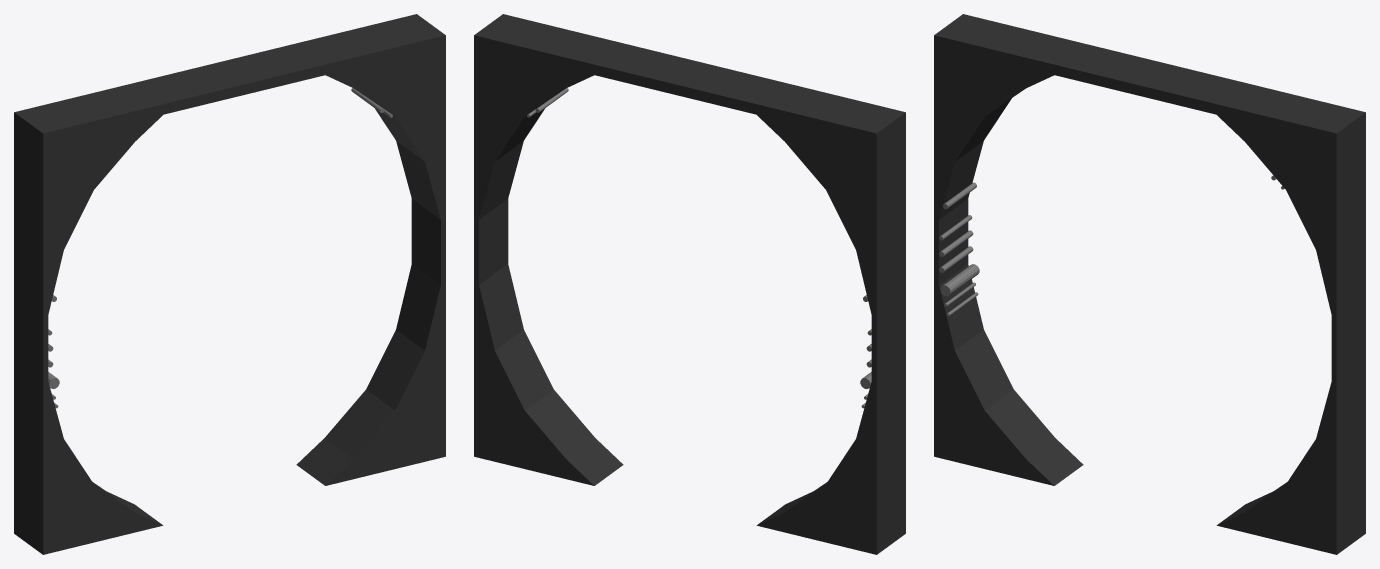
File: nyc_subway_tunnel.obj
The picture shows the model from 3 angles, left to right: view 1: azimuth 30°, elevation 25°; view 2: azimuth 150°, elevation 25°; view 3: azimuth 330°, elevation 25°; orthographic projection.
Visible parts, largest first — view 1: mesh, cylinder; view 2: mesh, cylinder; view 3: mesh, cylinder.
Boxes of the visible parts, x1,y1,x2,y2 form: mesh: [14, 14, 445, 554]; cylinder: [48, 88, 392, 408]; mesh: [474, 14, 905, 554]; cylinder: [527, 88, 871, 408]; mesh: [934, 14, 1365, 554]; cylinder: [939, 175, 1284, 316].
Bounding box in the file's own units: 5 × 5 × 0.625.
2 materials, 2 textured.
